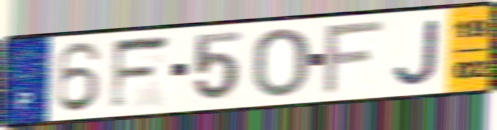5: (191, 31, 246, 103)
6: (54, 40, 104, 115)
F: (320, 17, 388, 97), (108, 33, 175, 113)
J: (392, 17, 442, 87)
O: (250, 26, 312, 100)
